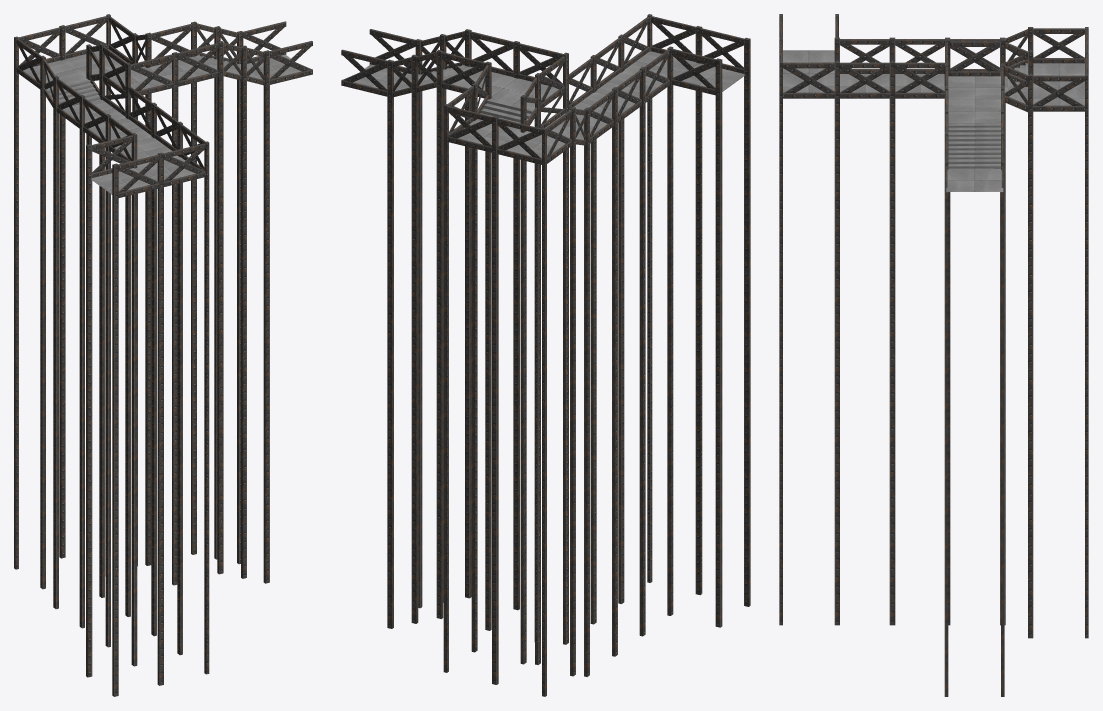
The model's file is Catwalk_Snake.fbx.
3 views of the same model, side by side, from view 1: azimuth 30°, elevation 25°; view 2: azimuth 150°, elevation 25°; view 3: azimuth 270°, elevation 25° (orthographic). The views are drawn at different scales.
Parts seen in each view (by area): view 1: Catwalk_Snake; view 2: Catwalk_Snake; view 3: Catwalk_Snake.
Boxes of the visible parts, x1,y1,x2,y2 form: Catwalk_Snake: (14, 14, 312, 696); Catwalk_Snake: (341, 14, 750, 696); Catwalk_Snake: (779, 14, 1088, 696).
Size of what is drawn, in the model's own units: 2790 by 5309 by 2548.
